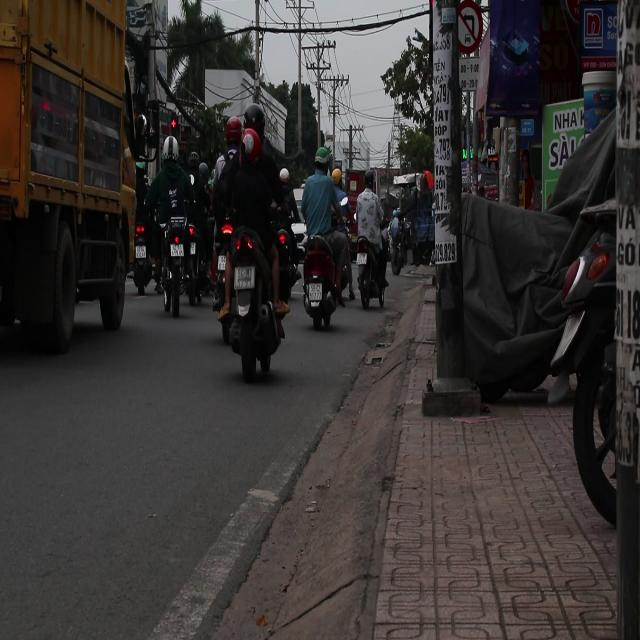motorbike: (220, 216, 284, 383), (298, 233, 346, 332), (357, 228, 396, 326), (272, 222, 305, 304)
truck: (0, 0, 131, 357)
